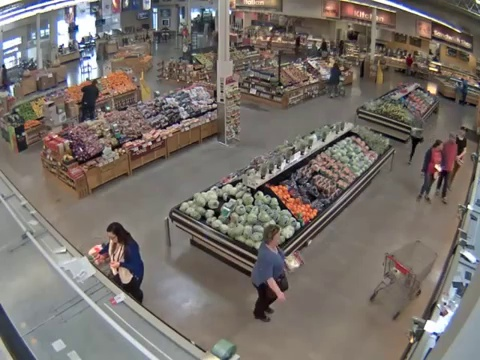face: (106, 228, 118, 244), (272, 230, 280, 244)
